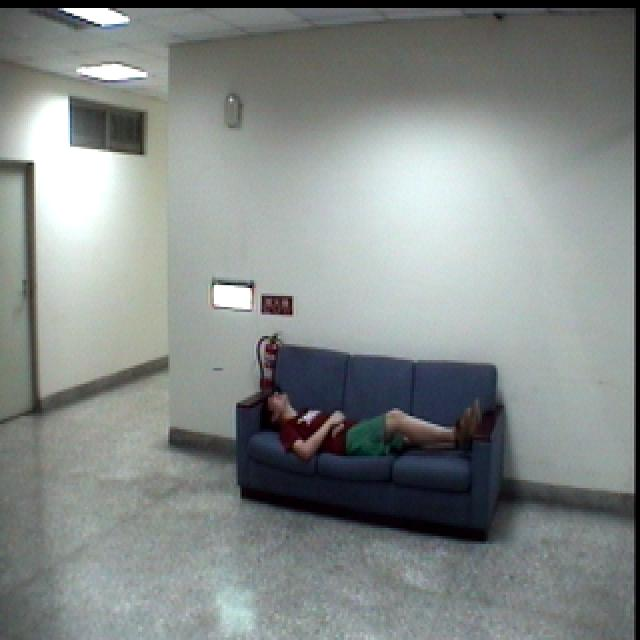lie: (254, 380, 483, 471)
